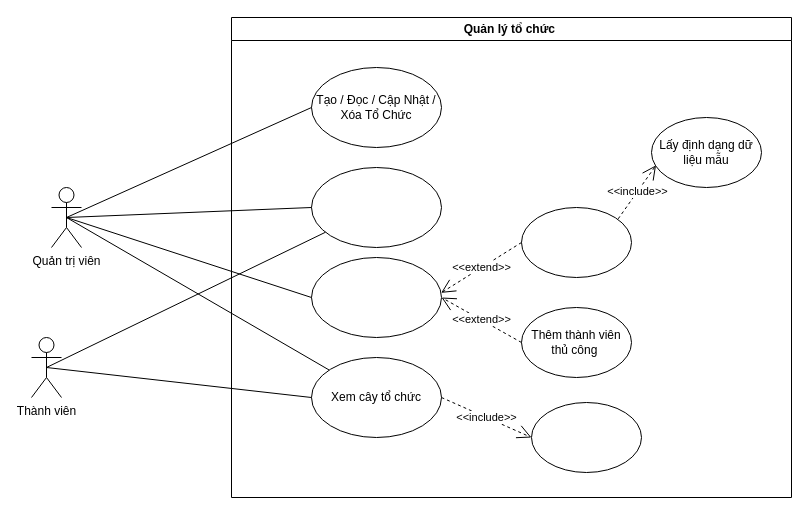
Some shapes in this 809 by 515 pixel diagram are drawn without their labels. The shapes that lost their labels are listed below. From the top down, each one's centre as x and y in pixels, then its label:
[376,207]: Xem số liệu tổng quan toàn bộ tổ chức
[576,242]: Thêm thành viên bằng file
[376,297]: Thêm thành viên
[586,437]: Chuyển sang trang chi tiết
